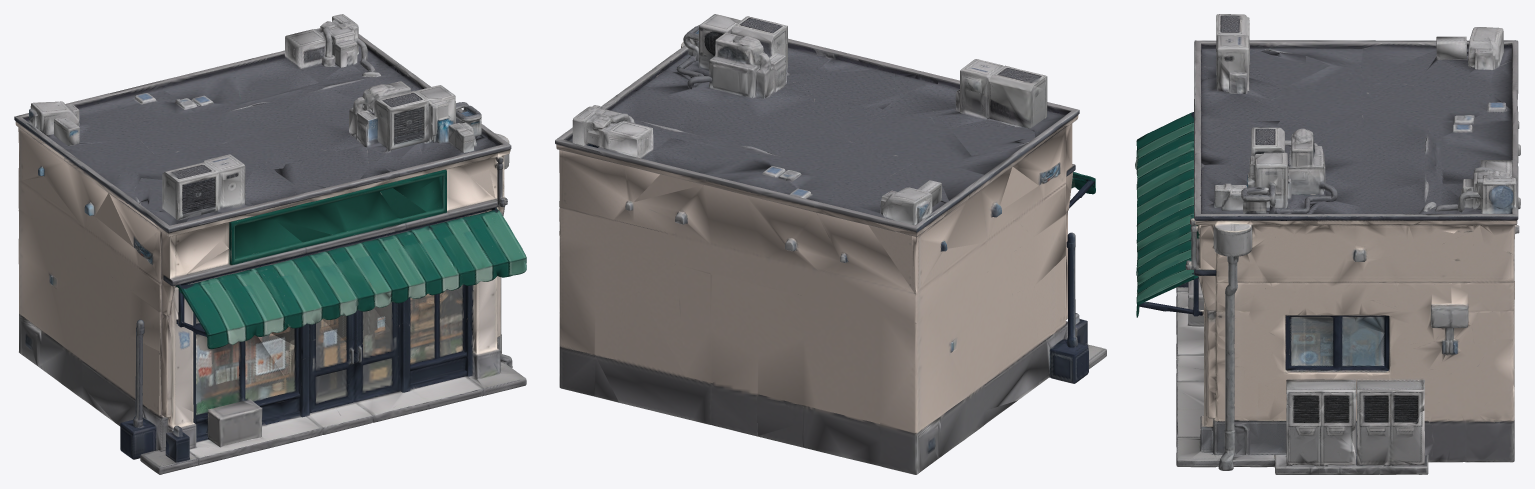
Rendered from BLD_016_small_shop_a_source.glb.
3 renders of one model, left to right at view 1: azimuth 30°, elevation 25°; view 2: azimuth 150°, elevation 25°; view 3: azimuth 270°, elevation 25°, orthographic. The views are drawn at different scales.
Visible parts, largest first — view 1: Mesh_0; view 2: Mesh_0; view 3: Mesh_0.
Part boxes in pixels (x1,y1,x2,y2): Mesh_0: [14, 14, 526, 474]; Mesh_0: [555, 14, 1106, 474]; Mesh_0: [1135, 14, 1520, 474].
Bounding box in the file's own units: 5.88 × 4 × 4.81.
Materials: 1 (1 with a texture image).
